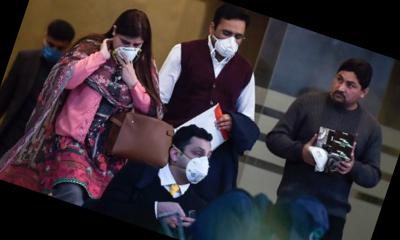with_mask: (172, 139, 216, 187), (206, 21, 246, 59), (108, 32, 145, 66), (39, 38, 69, 66)
without_mask: (327, 71, 366, 110)
